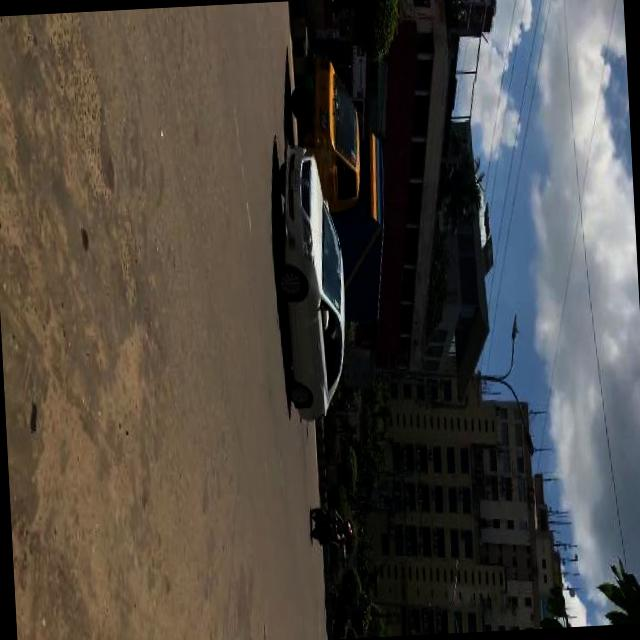car: (272, 132, 352, 425)
motorcycle: (309, 502, 355, 548)
truck: (288, 42, 394, 322)
